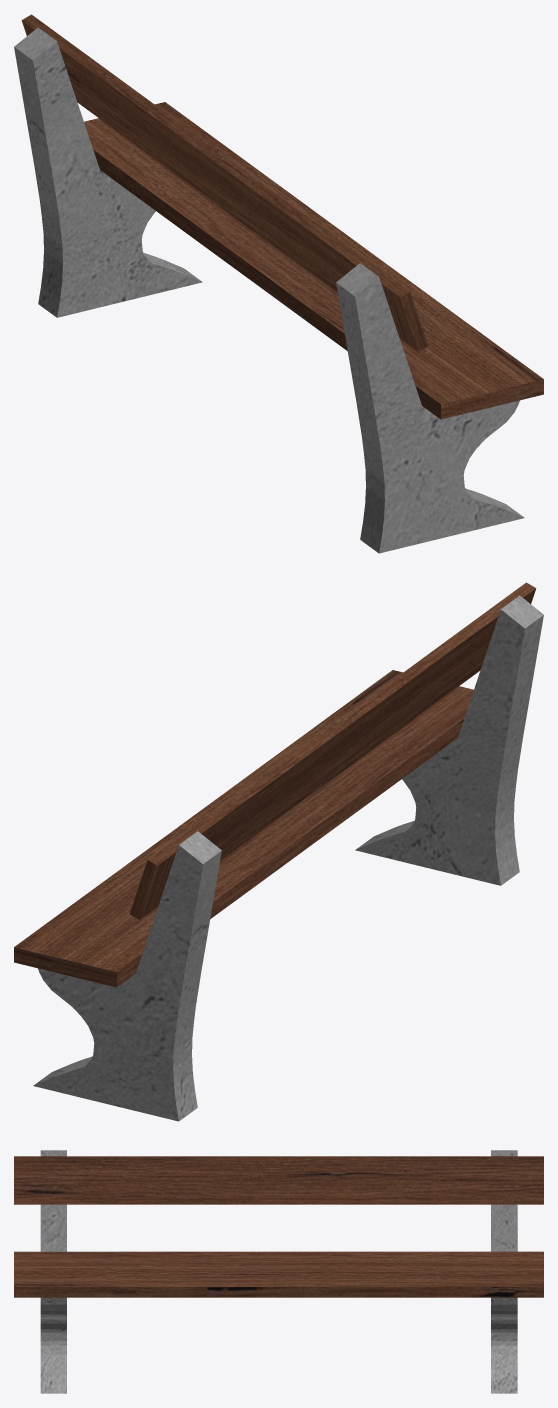
Rendered from Bench.obj.
3 views of the same model, one above another, from view 1: azimuth 30°, elevation 25°; view 2: azimuth 150°, elevation 25°; view 3: azimuth 270°, elevation 25° (orthographic). The views are drawn at different scales.
Parts seen in each view (by area): view 1: Lavicka_Beton_Stara; view 2: Lavicka_Beton_Stara; view 3: Lavicka_Beton_Stara.
Boxes of the visible parts, x1,y1,x2,y2 form: Lavicka_Beton_Stara: [14, 14, 543, 553]; Lavicka_Beton_Stara: [14, 582, 543, 1121]; Lavicka_Beton_Stara: [14, 1150, 543, 1393].
Size of the model in its own units: 0.5187 by 0.8059 by 2.
1 material, 1 textured.
